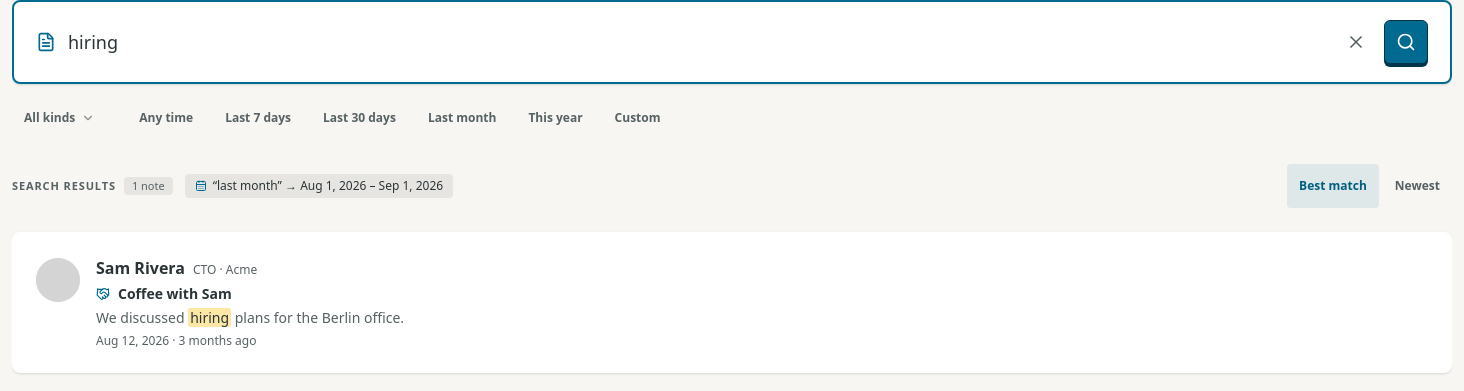
Test case: InteractionSearchPanel › empties the results along with the search
expect the text "Sam Rivera" is shown: met, box [96,256,185,280]
Click the button named "Clear search": (1356, 42) [1340,26,1372,58]
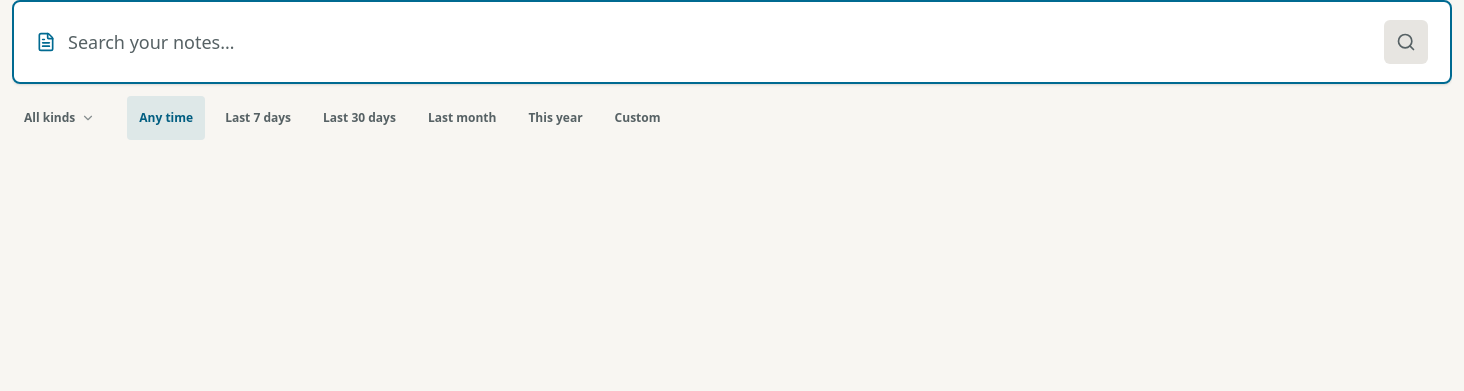
expect the button "Sam Rivera" is gone: met
expect the field labelled "Search your notes" is empty: met, box [68,22,1328,62]
expect the text "1 note" is gone: met
